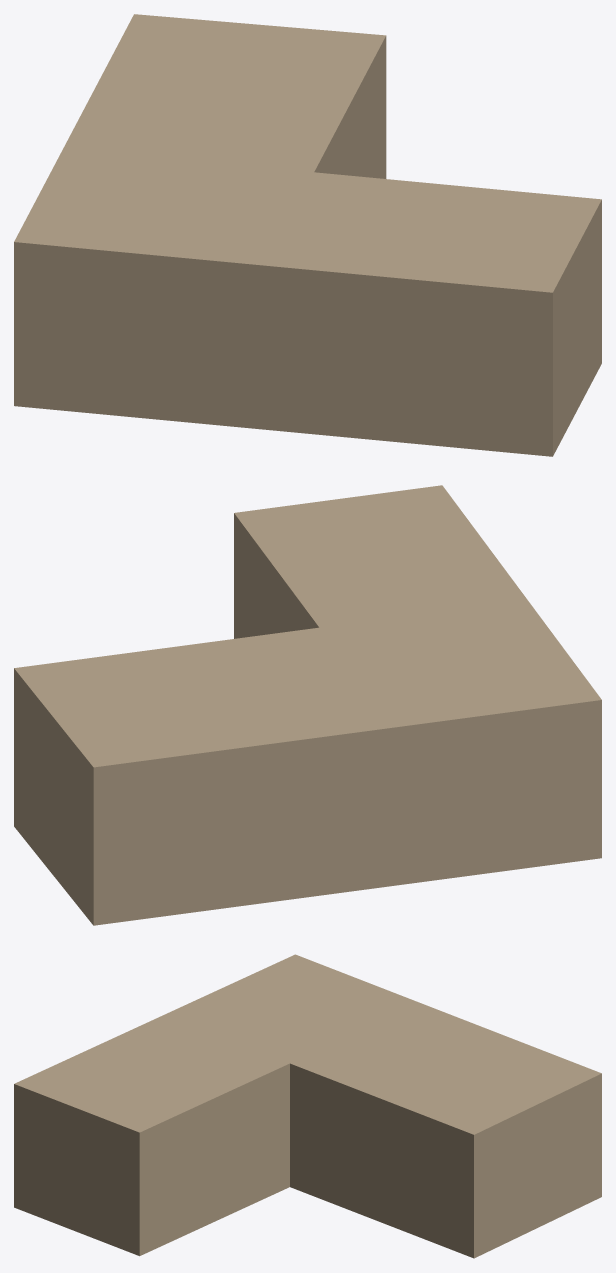
Rendered from bld_274778200.dae.
The picture shows the model from 3 angles, top to bottom: view 1: azimuth 30°, elevation 25°; view 2: azimuth 150°, elevation 25°; view 3: azimuth 270°, elevation 25°; orthographic projection. The views are drawn at different scales.
Visible parts, largest first — view 1: Music School; view 2: Music School; view 3: Music School.
Boxes of the visible parts, x1,y1,x2,y2 form: Music School: (14,14,601,456); Music School: (14,485,601,925); Music School: (14,954,601,1258).
Bounding box in the file's own units: 37.57 × 51.73 × 12.
